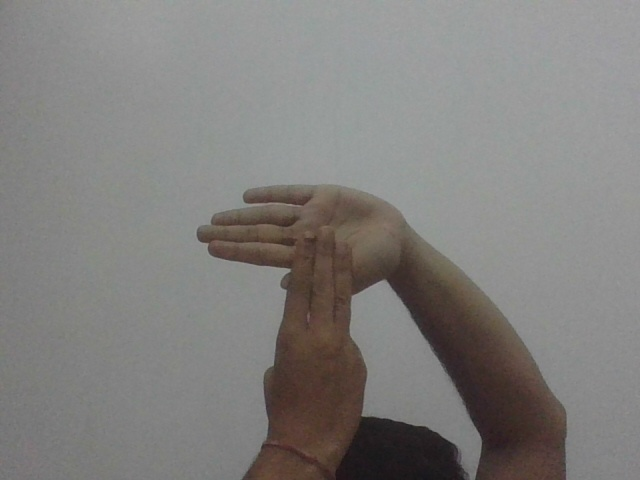M: (192, 184, 394, 366)
